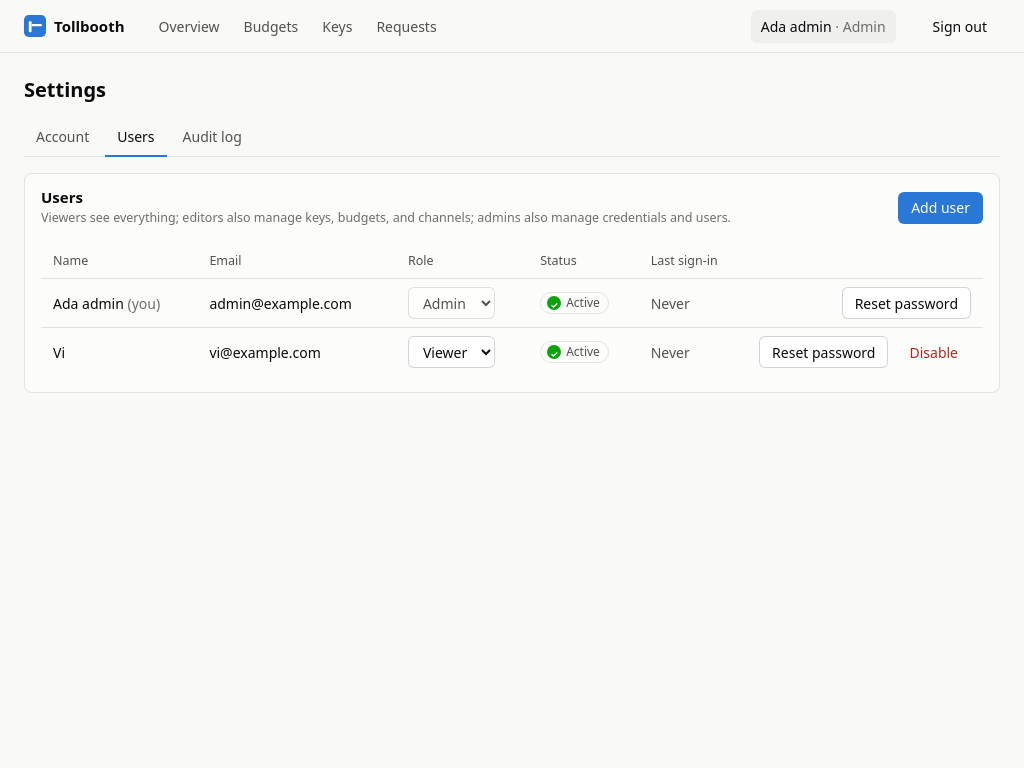
Scenario: users settings › adds a user and shows the temporary password
Step 1. Click the button "Add user" → (941, 208), box [898,192,983,224]
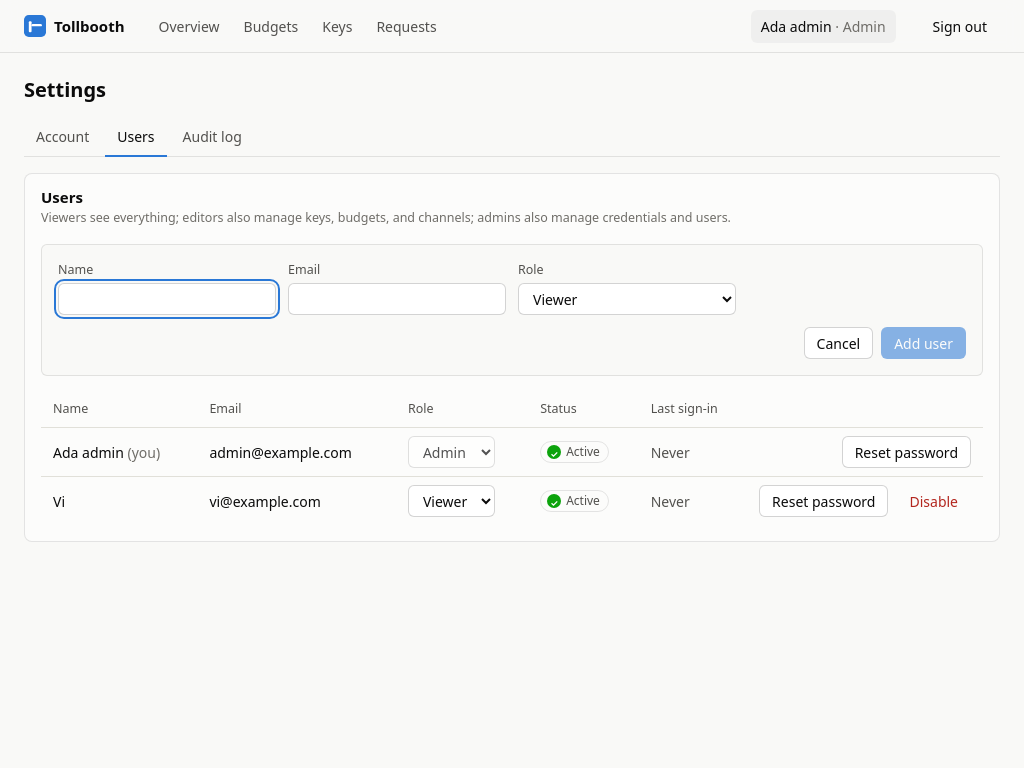
Step 2. Type "New" into the field labelled "Name" → (167, 299), box [58,283,276,315]
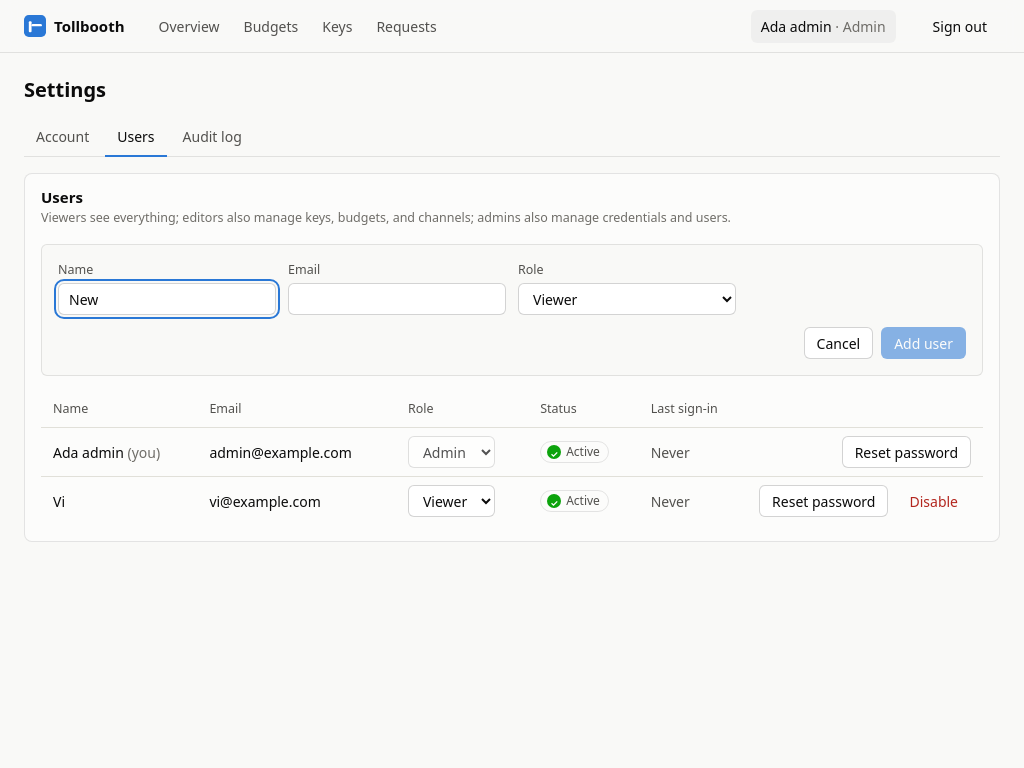
Step 3. Type "new@example.com" into the field labelled "Email" → (397, 299), box [288,283,506,315]
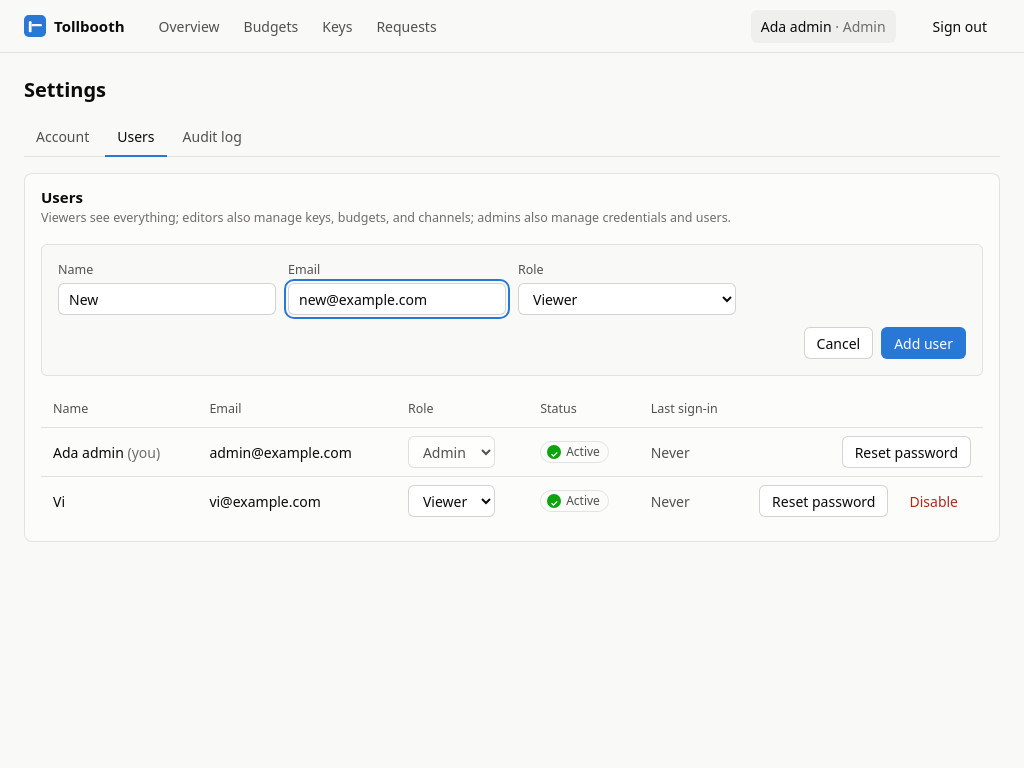
Step 4. Select "Editor" in the dropdown labelled "Role" → (627, 299), box [518,283,736,315]
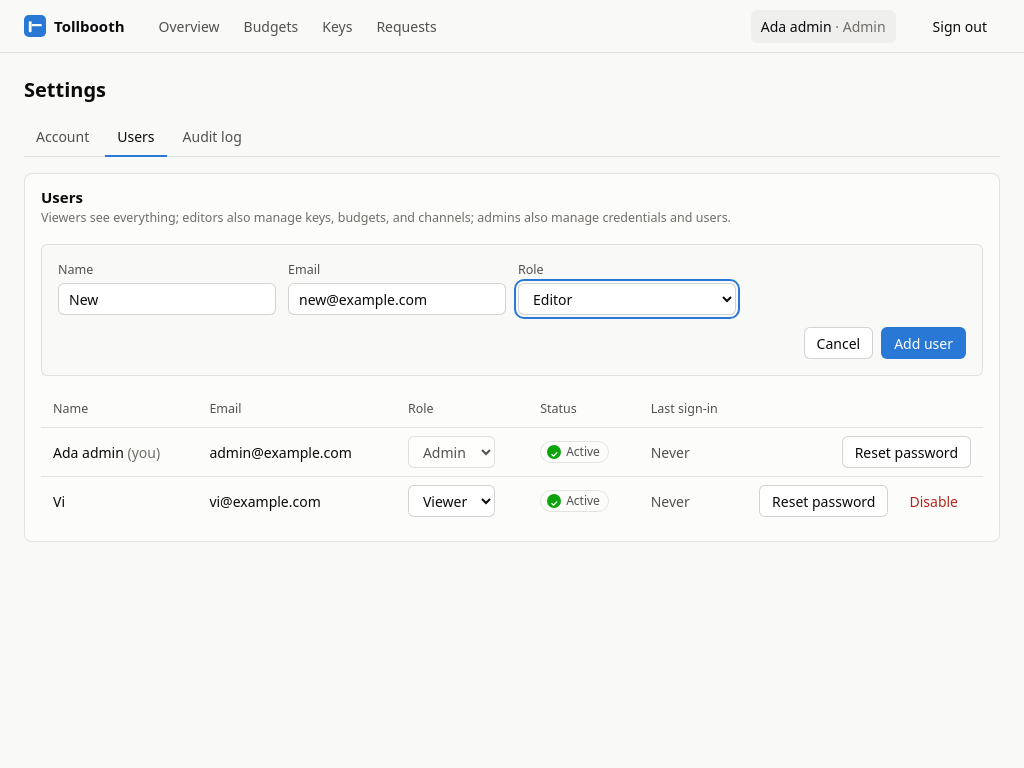
Step 5. Click the button "Add user" → (924, 343), box [881,327,966,359]
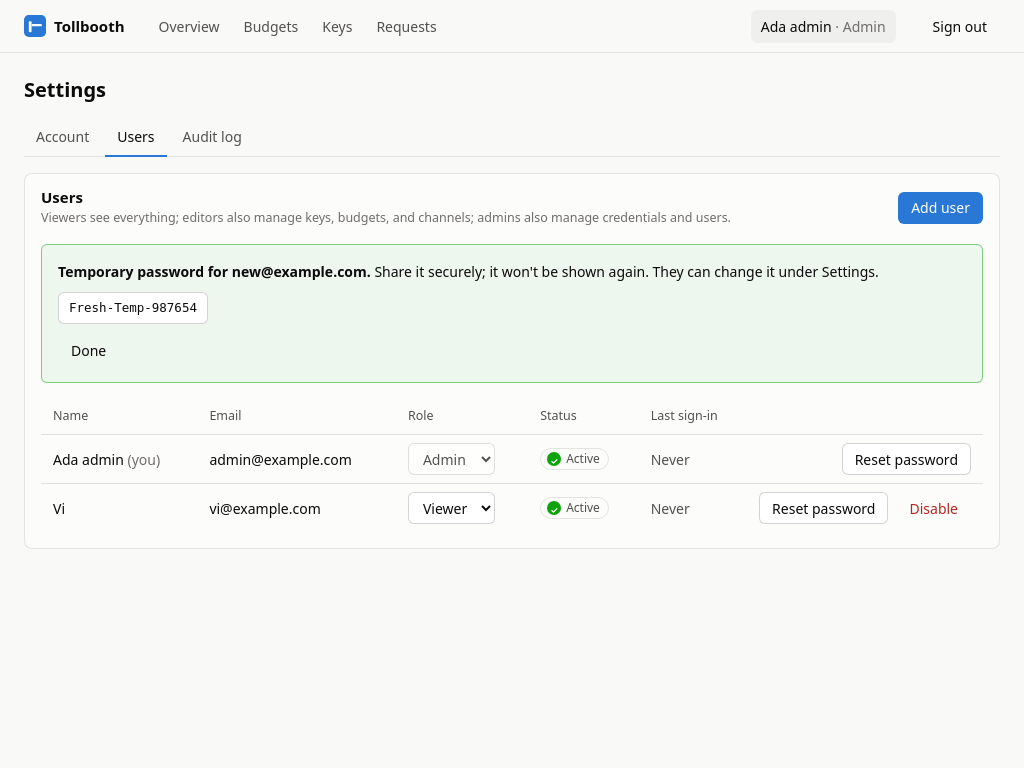
Check: the text named "Temporary password" reads "Fresh-Temp-987654", box [69,300,197,314]
